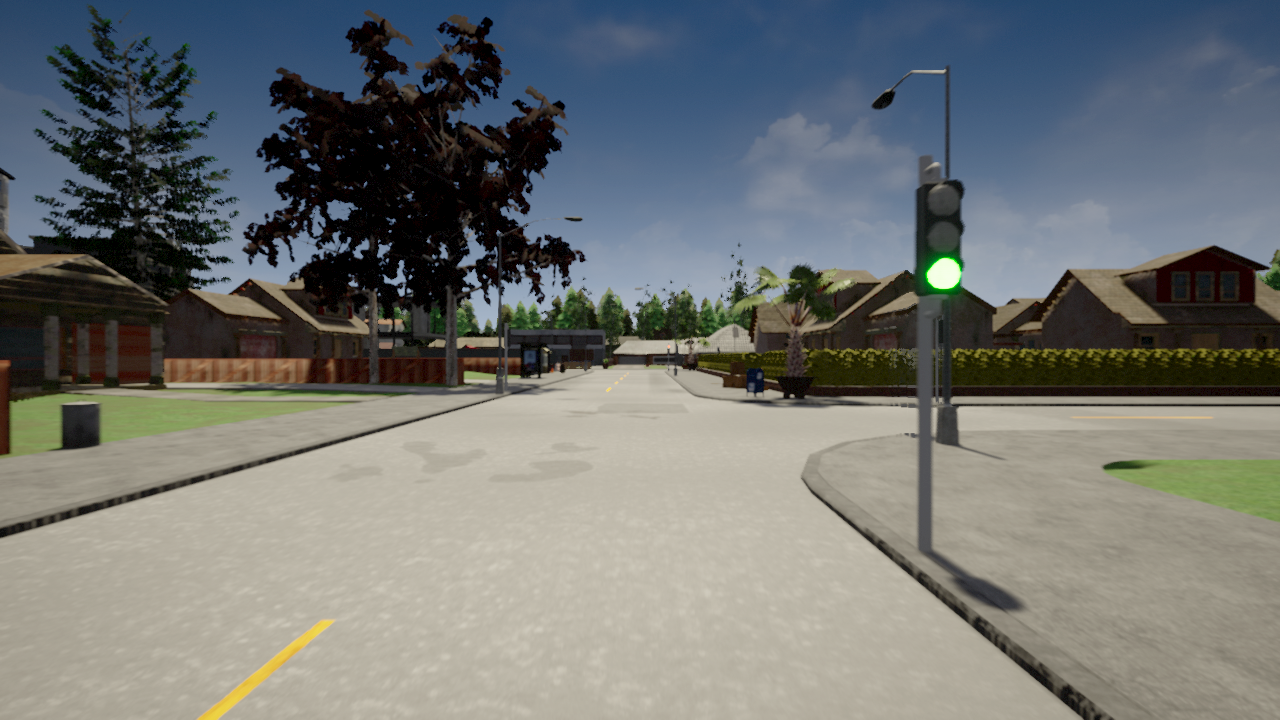green: (911, 176, 970, 296)
